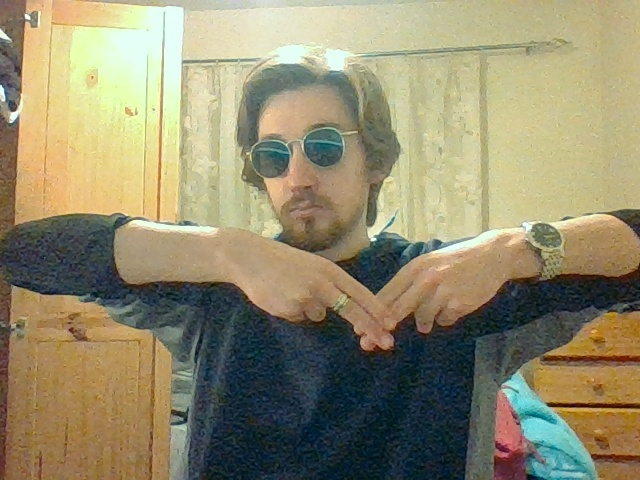father: (324, 255, 434, 352)
